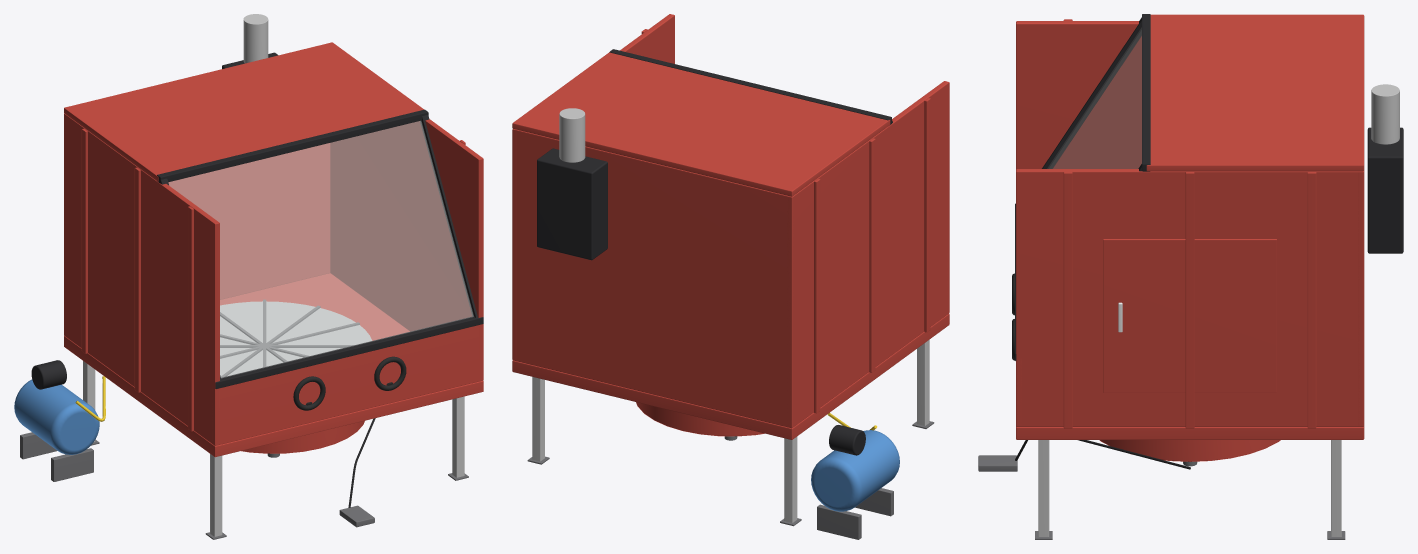
The model's file is blaster_pro.glb.
The picture shows the model from 3 angles, left to right: view 1: azimuth 30°, elevation 25°; view 2: azimuth 150°, elevation 25°; view 3: azimuth 270°, elevation 25°; orthographic projection. The views are drawn at different scales.
Parts seen in each view (by area): view 1: SM_blaster_pro; view 2: SM_blaster_pro; view 3: SM_blaster_pro.
Part boxes in pixels (x1=…): SM_blaster_pro: x1=14, y1=14, x2=483, y2=539; SM_blaster_pro: x1=512, y1=14, x2=949, y2=539; SM_blaster_pro: x1=978, y1=14, x2=1403, y2=539.
Size of the model in its own units: 2.47 by 2.57 by 2.38.
